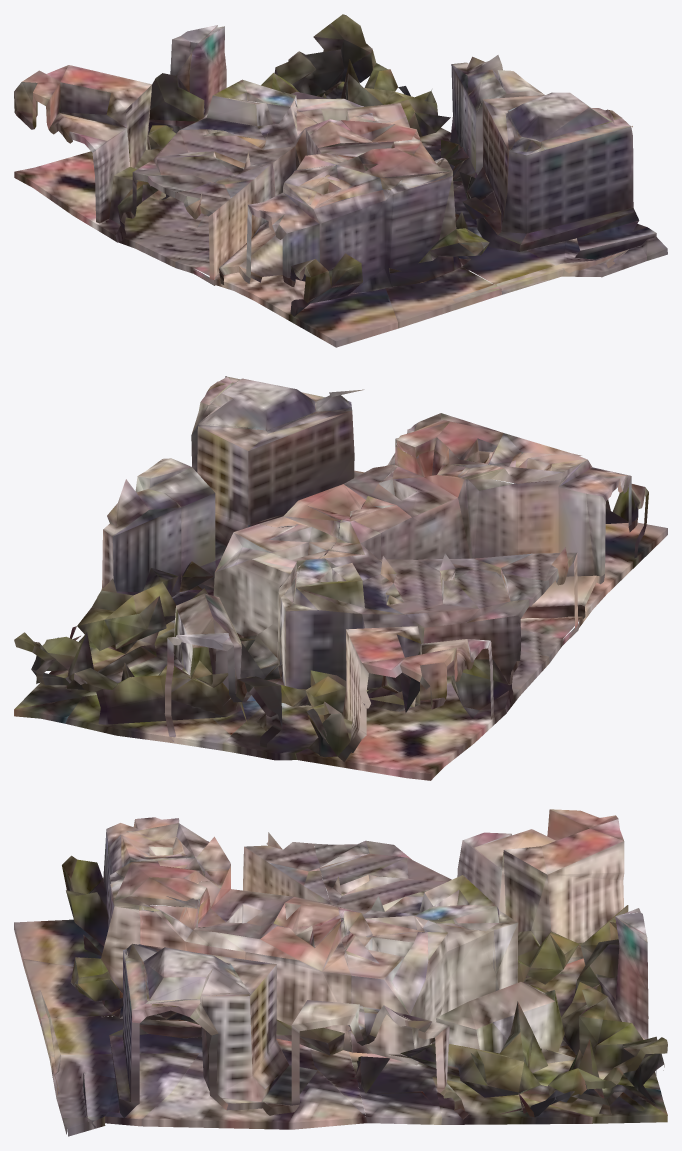
3 views of the same model, one above another, from view 1: azimuth 30°, elevation 25°; view 2: azimuth 150°, elevation 25°; view 3: azimuth 270°, elevation 25° (orthographic). The views are drawn at different scales.
Parts seen in each view (by area): view 1: Mesh_0; view 2: Mesh_0; view 3: Mesh_0.
Boxes of the visible parts, x1=… form: Mesh_0: x1=14, y1=14, x2=667, y2=347; Mesh_0: x1=14, y1=376, x2=667, y2=780; Mesh_0: x1=14, y1=809, x2=667, y2=1136.
Bounding box in the file's own units: 133 × 49.54 × 165.
Materials: 1 (1 with a texture image).
